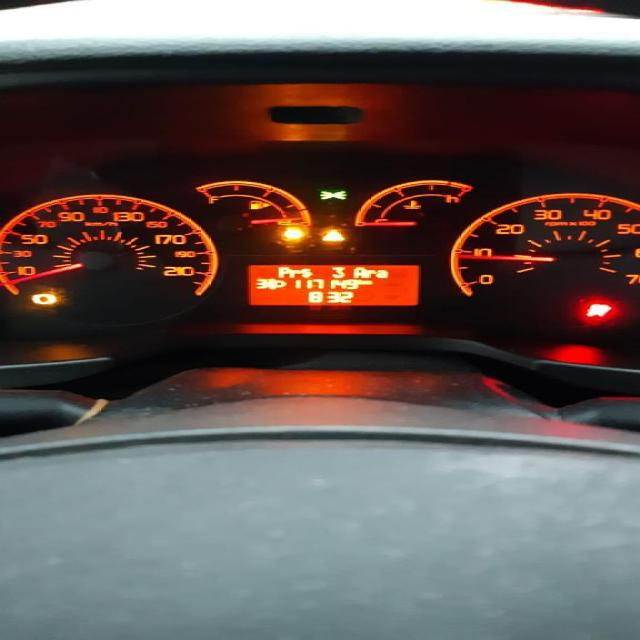odometer: (239, 263, 421, 308)
